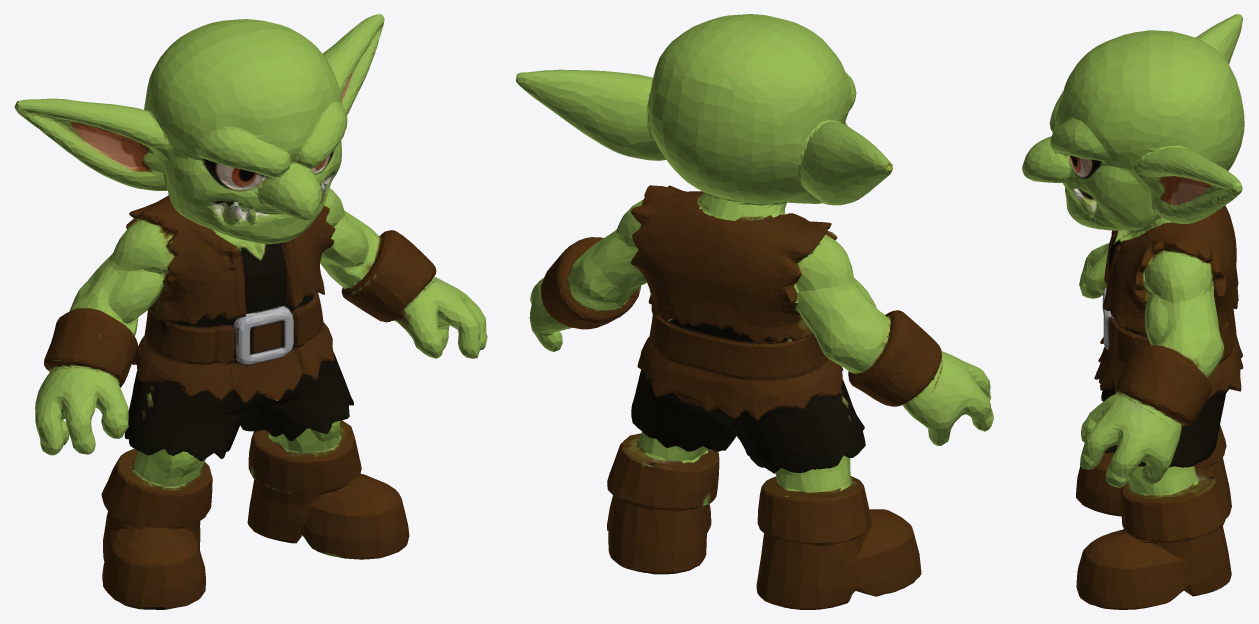
File: goblin_male2.glb
3 renders of one model, left to right at view 1: azimuth 30°, elevation 25°; view 2: azimuth 150°, elevation 25°; view 3: azimuth 270°, elevation 25°, orthographic. The views are drawn at different scales.
Visible parts, largest first — view 1: goblinMale3.obj; view 2: goblinMale3.obj; view 3: goblinMale3.obj.
Part boxes in pixels (x1=…): goblinMale3.obj: x1=14, y1=14, x2=487, y2=609; goblinMale3.obj: x1=516, y1=14, x2=993, y2=609; goblinMale3.obj: x1=1022, y1=14, x2=1244, y2=609.
Size of the model in its own units: 1.75 by 1.96 by 0.7865.
Materials: 1 (1 with a texture image).
